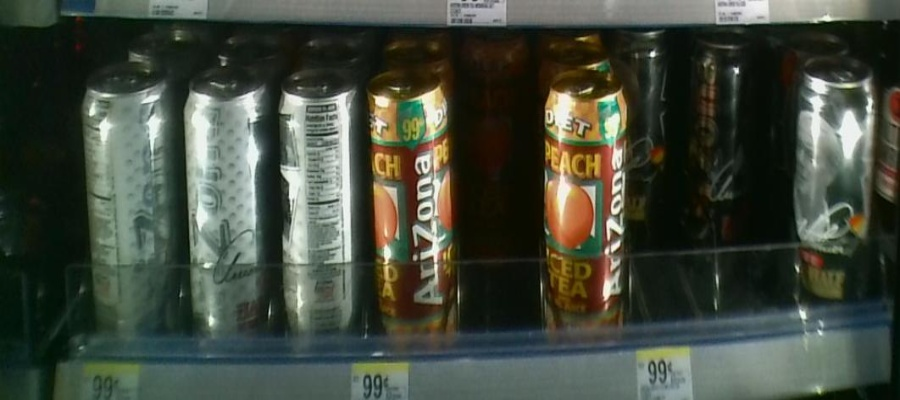bottle: (79, 65, 178, 344), (366, 68, 454, 354), (182, 70, 272, 347), (539, 67, 628, 345), (276, 66, 361, 348), (795, 52, 876, 312), (698, 34, 753, 212), (631, 25, 674, 228)
